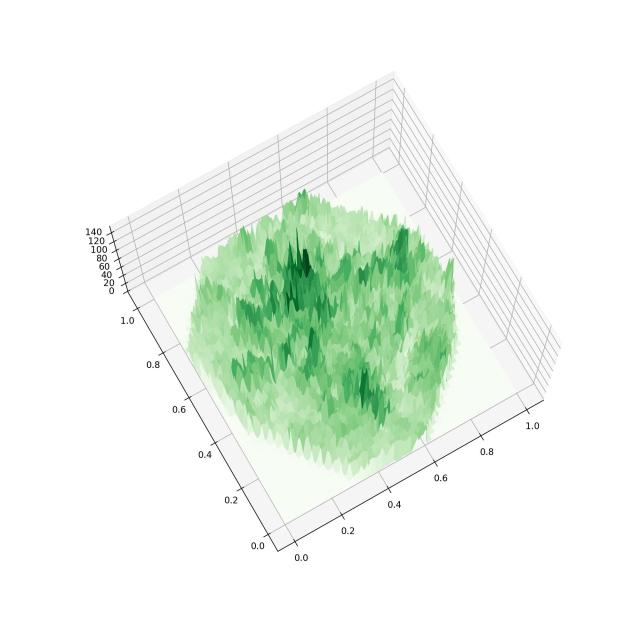spruce: (59, 39, 576, 588)
